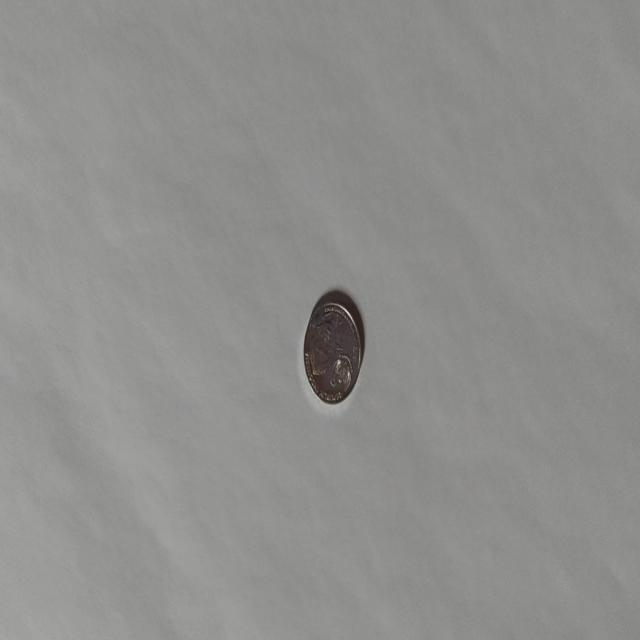dua ratus rupiah: (302, 294, 362, 406)
